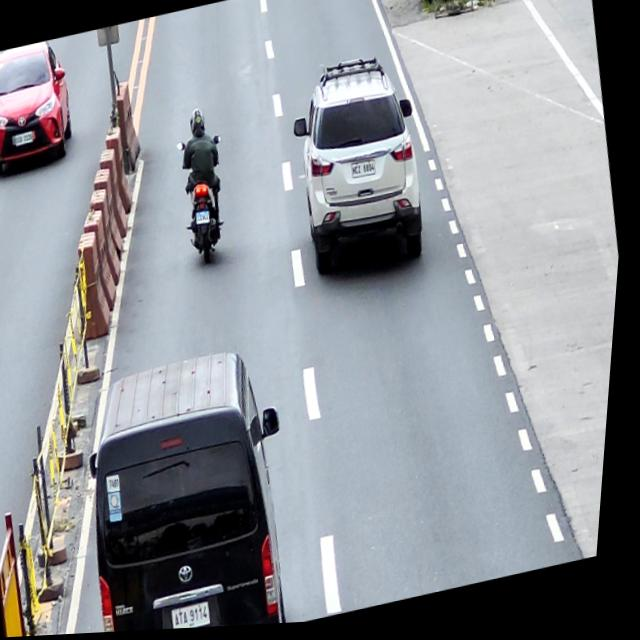Car: (68, 341, 326, 636), (277, 52, 444, 287), (0, 36, 86, 180)
License-Plate: (180, 606, 221, 631), (353, 162, 379, 182), (15, 132, 36, 147), (198, 211, 214, 226)
Motorcycle: (172, 133, 244, 269)
